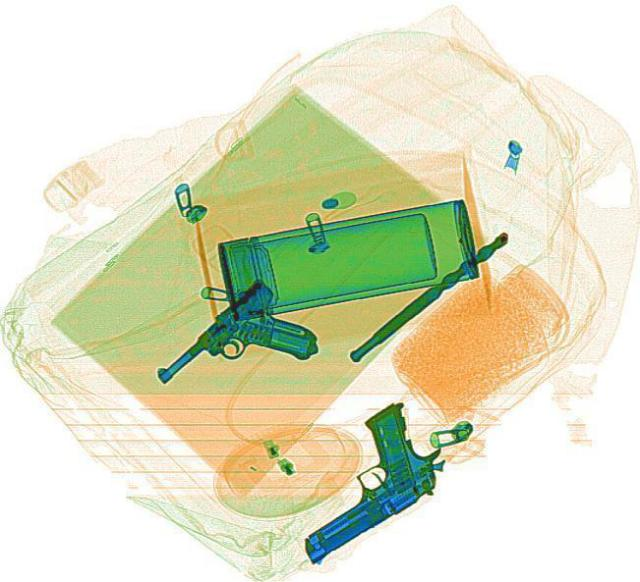Gun: (248, 399, 460, 562), (149, 272, 335, 432)
